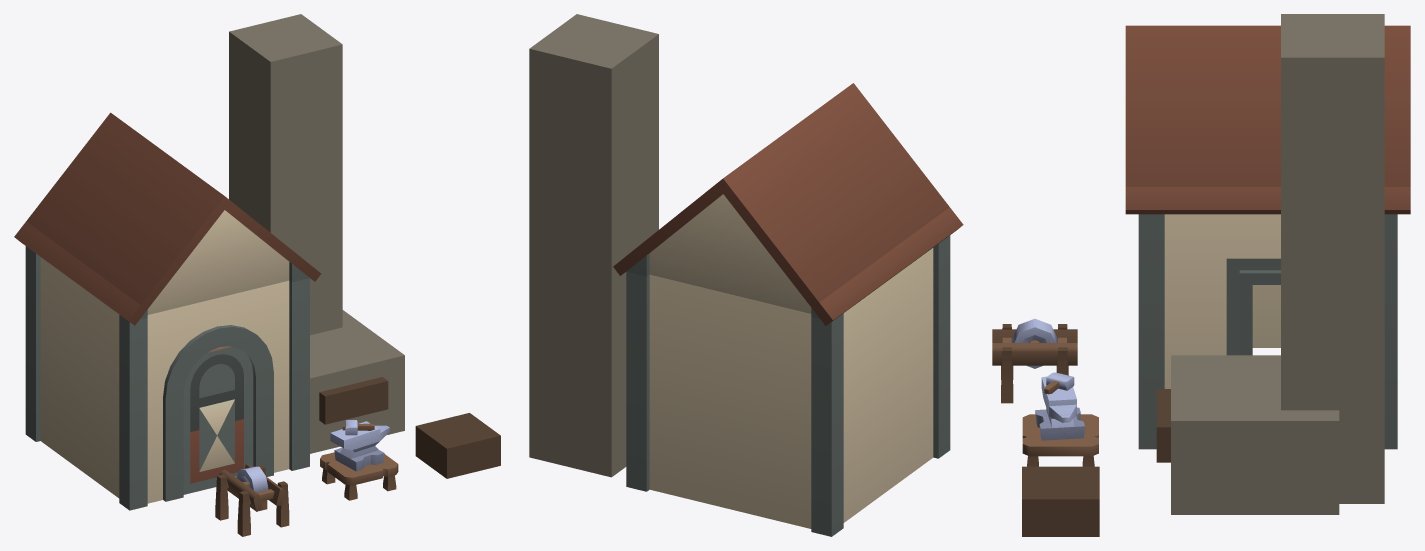
File: facility-smith.glb
3 renders of one model, left to right at view 1: azimuth 30°, elevation 25°; view 2: azimuth 150°, elevation 25°; view 3: azimuth 270°, elevation 25°, orthographic. The views are drawn at different scales.
Visible parts, largest first — view 1: Original box (×4), roof-gable, wall (×2), wall-door, door, wall-window-small, workbench-anvil, workbench-grind; view 2: wall (×2), Original box, roof-gable, wall-window-small, wall-door; view 3: Original box (×4), roof-gable, wall-window-small, workbench-anvil, wall (×2), wall-door, workbench-grind, wheel, hammer.
Boxes of the visible parts, x1,y1,x2,y2 form: Original box (×4): [229, 14, 500, 478]; roof-gable: [14, 112, 321, 325]; wall (×2): [25, 246, 147, 510]; wall-door: [119, 279, 309, 510]; door: [183, 346, 253, 494]; wall-window-small: [289, 278, 309, 470]; workbench-anvil: [320, 421, 398, 500]; workbench-grind: [215, 464, 289, 536]; wall (×2): [626, 235, 950, 536]; Original box: [529, 14, 658, 477]; roof-gable: [613, 83, 963, 325]; wall-window-small: [626, 272, 649, 491]; wall-door: [933, 236, 950, 457]; Original box (×4): [1022, 14, 1384, 536]; roof-gable: [1125, 25, 1410, 214]; wall-window-small: [1138, 214, 1397, 449]; workbench-anvil: [1022, 375, 1098, 466]; wall (×2): [1252, 214, 1397, 449]; wall-door: [1138, 214, 1164, 449]; workbench-grind: [992, 324, 1077, 403]; wheel: [1012, 318, 1057, 368]; hammer: [1044, 372, 1074, 394].
Bounding box in the file's own units: 1.84 × 1.9 × 1.61.
Materials: 4 (2 with a texture image).
